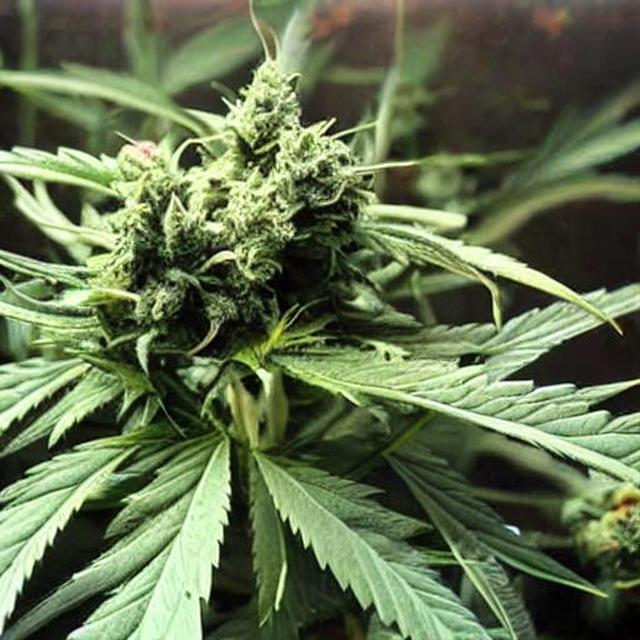Marijuana Plant: (0, 90, 529, 640)
